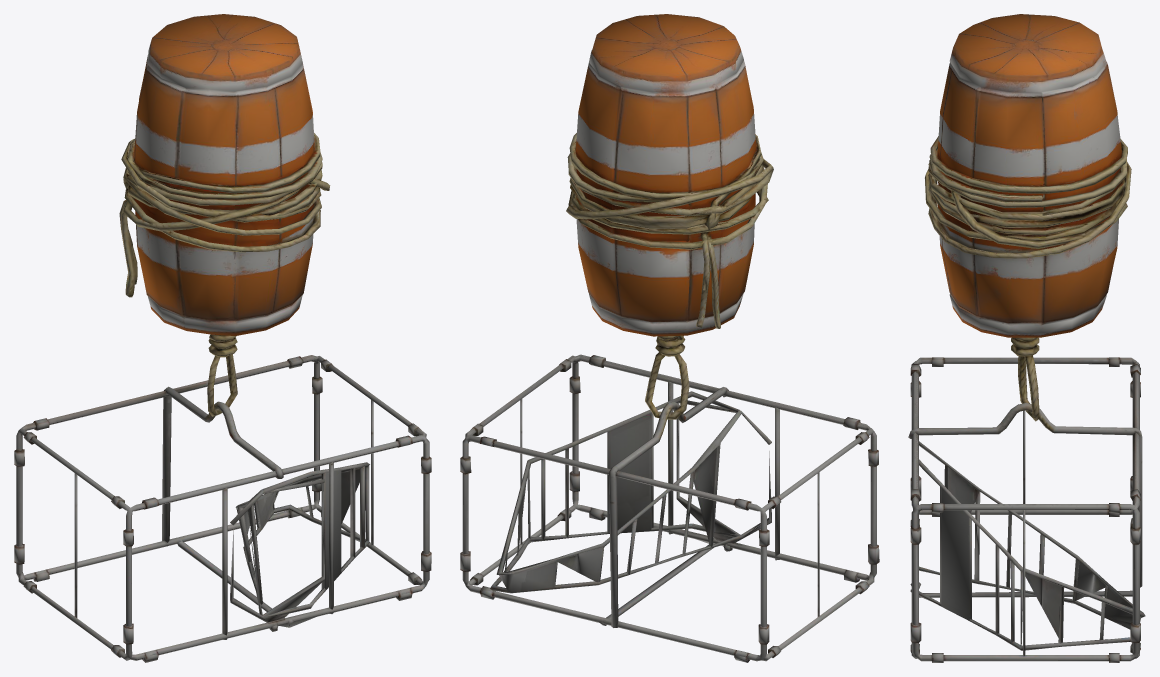
File: original_glb.glb
The picture shows the model from 3 angles, left to right: view 1: azimuth 30°, elevation 25°; view 2: azimuth 150°, elevation 25°; view 3: azimuth 270°, elevation 25°; orthographic projection.
Parts seen in each view (by area): view 1: Crab Pot Buoy; view 2: Crab Pot Buoy; view 3: Crab Pot Buoy.
Part boxes in pixels (box(x1,y1,x2,y2)): Crab Pot Buoy: box(14, 14, 431, 662); Crab Pot Buoy: box(460, 14, 879, 662); Crab Pot Buoy: box(908, 14, 1145, 662).
Bounding box in the file's own units: 0.5879 × 0.998 × 0.3926.
Materials: 1 (1 with a texture image).
